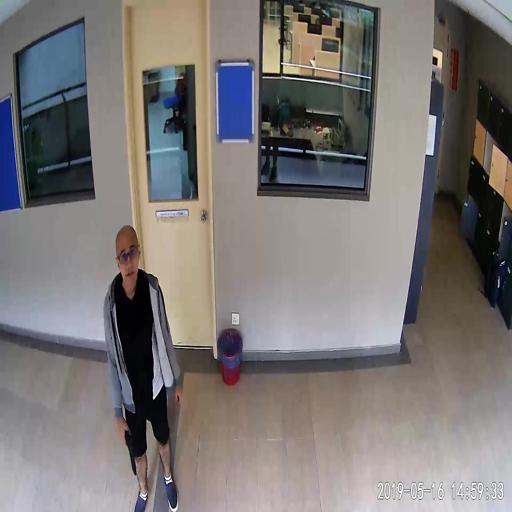pistol: (123, 424, 135, 474)
